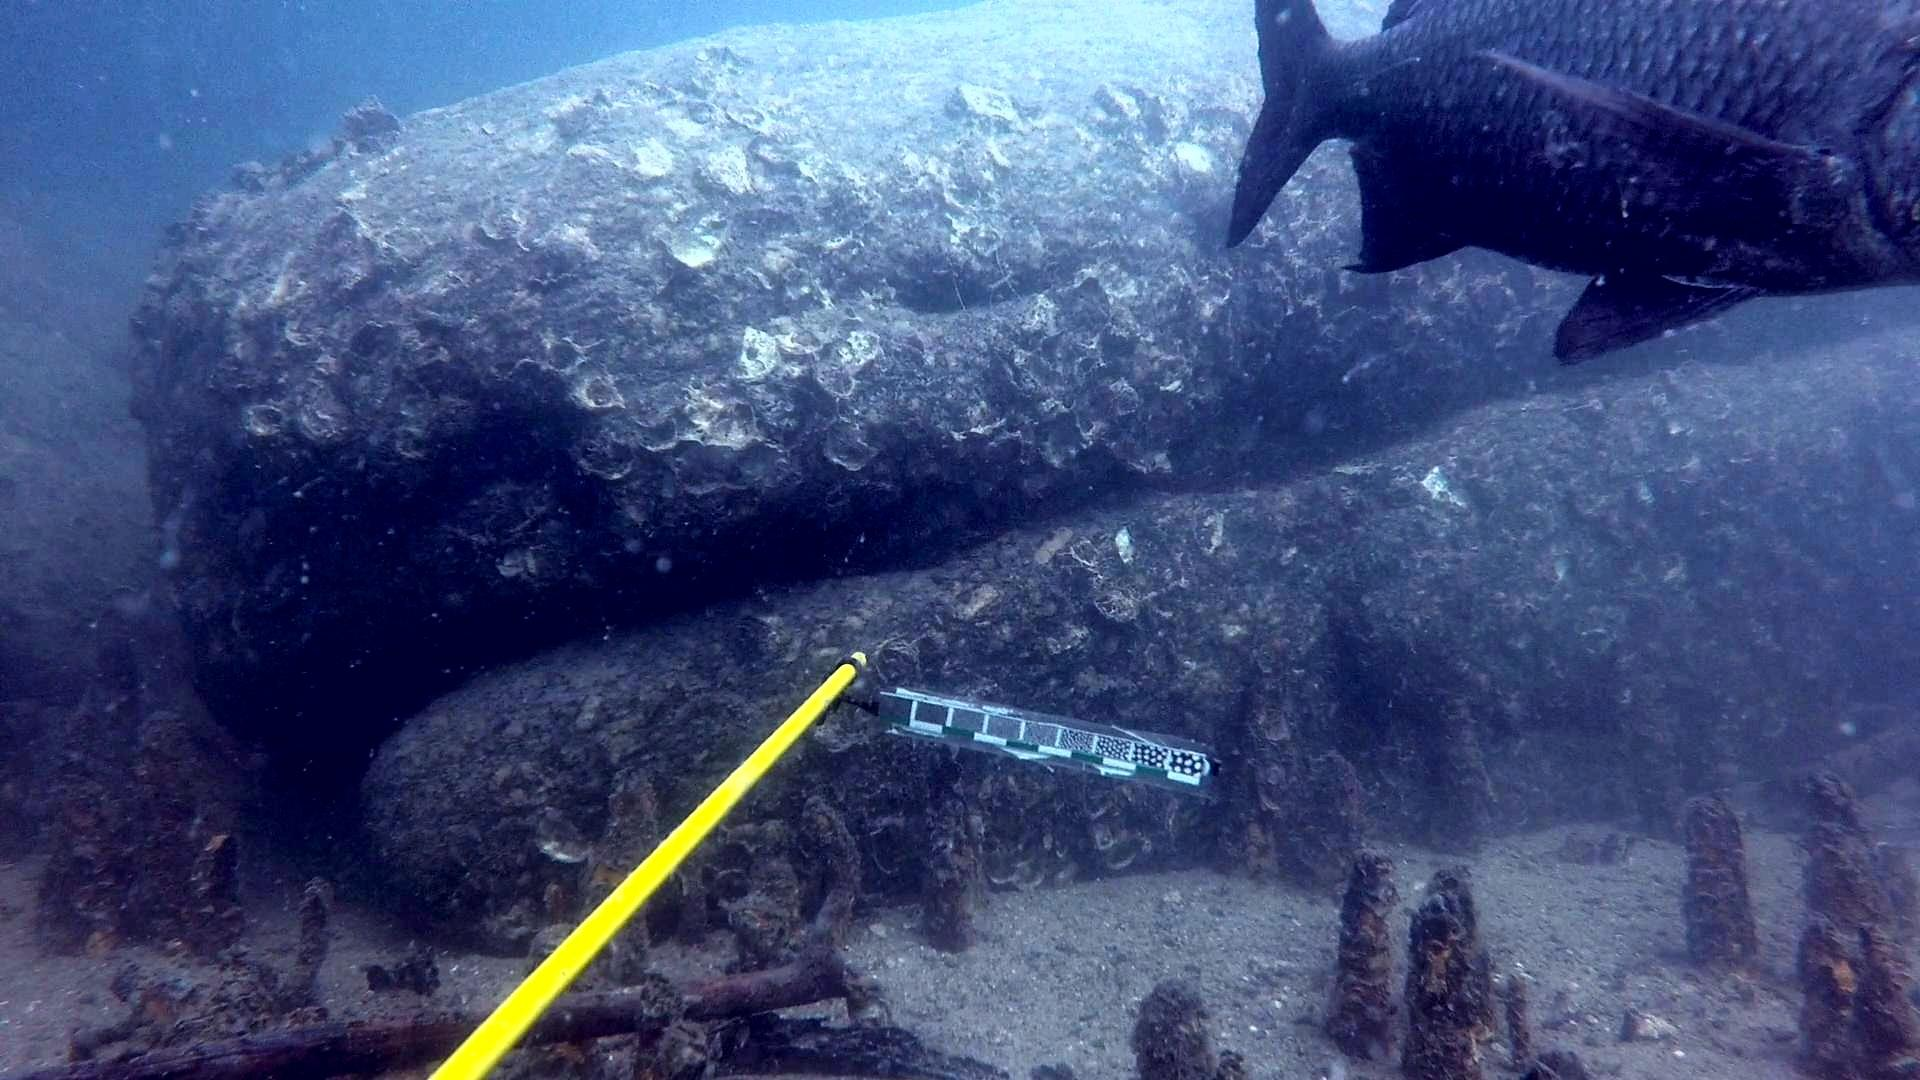acanthopagrus palmaris: (1221, 0, 1920, 371)
